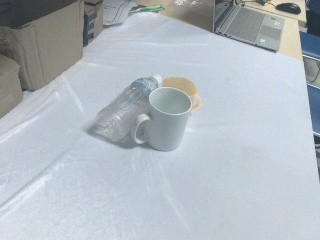bottle: (89, 74, 163, 145)
box: (1, 1, 86, 92)
cup: (130, 87, 193, 152)
mouse: (275, 3, 301, 15)
